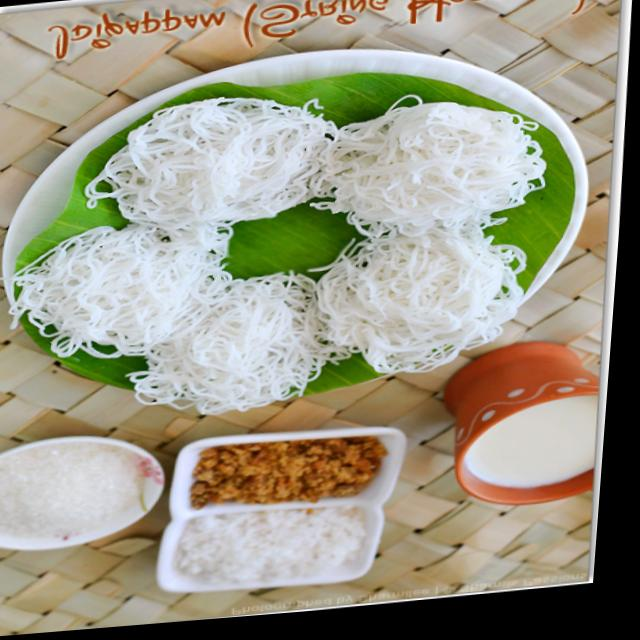IDIYAPPAM: (12, 93, 550, 422)
